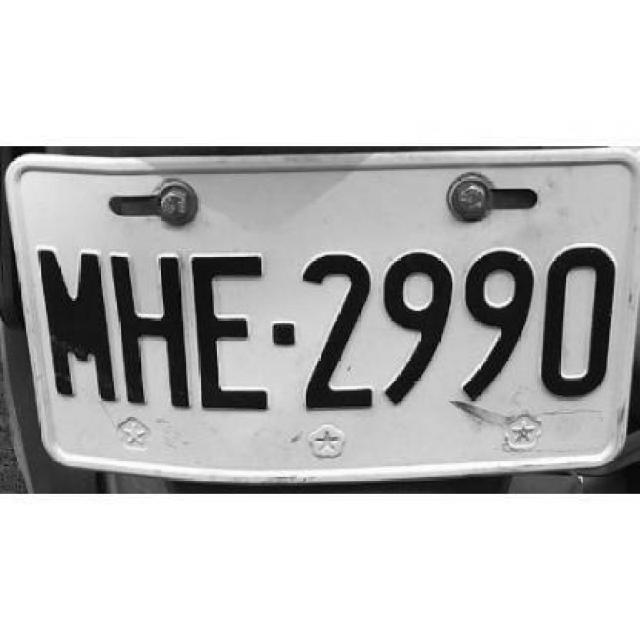-: (271, 318, 297, 349)
0: (538, 239, 617, 406)
2: (298, 246, 372, 417)
9: (454, 245, 537, 406), (375, 246, 454, 408)
E: (189, 252, 269, 411)
H: (108, 249, 189, 407)
M: (33, 244, 118, 401)
